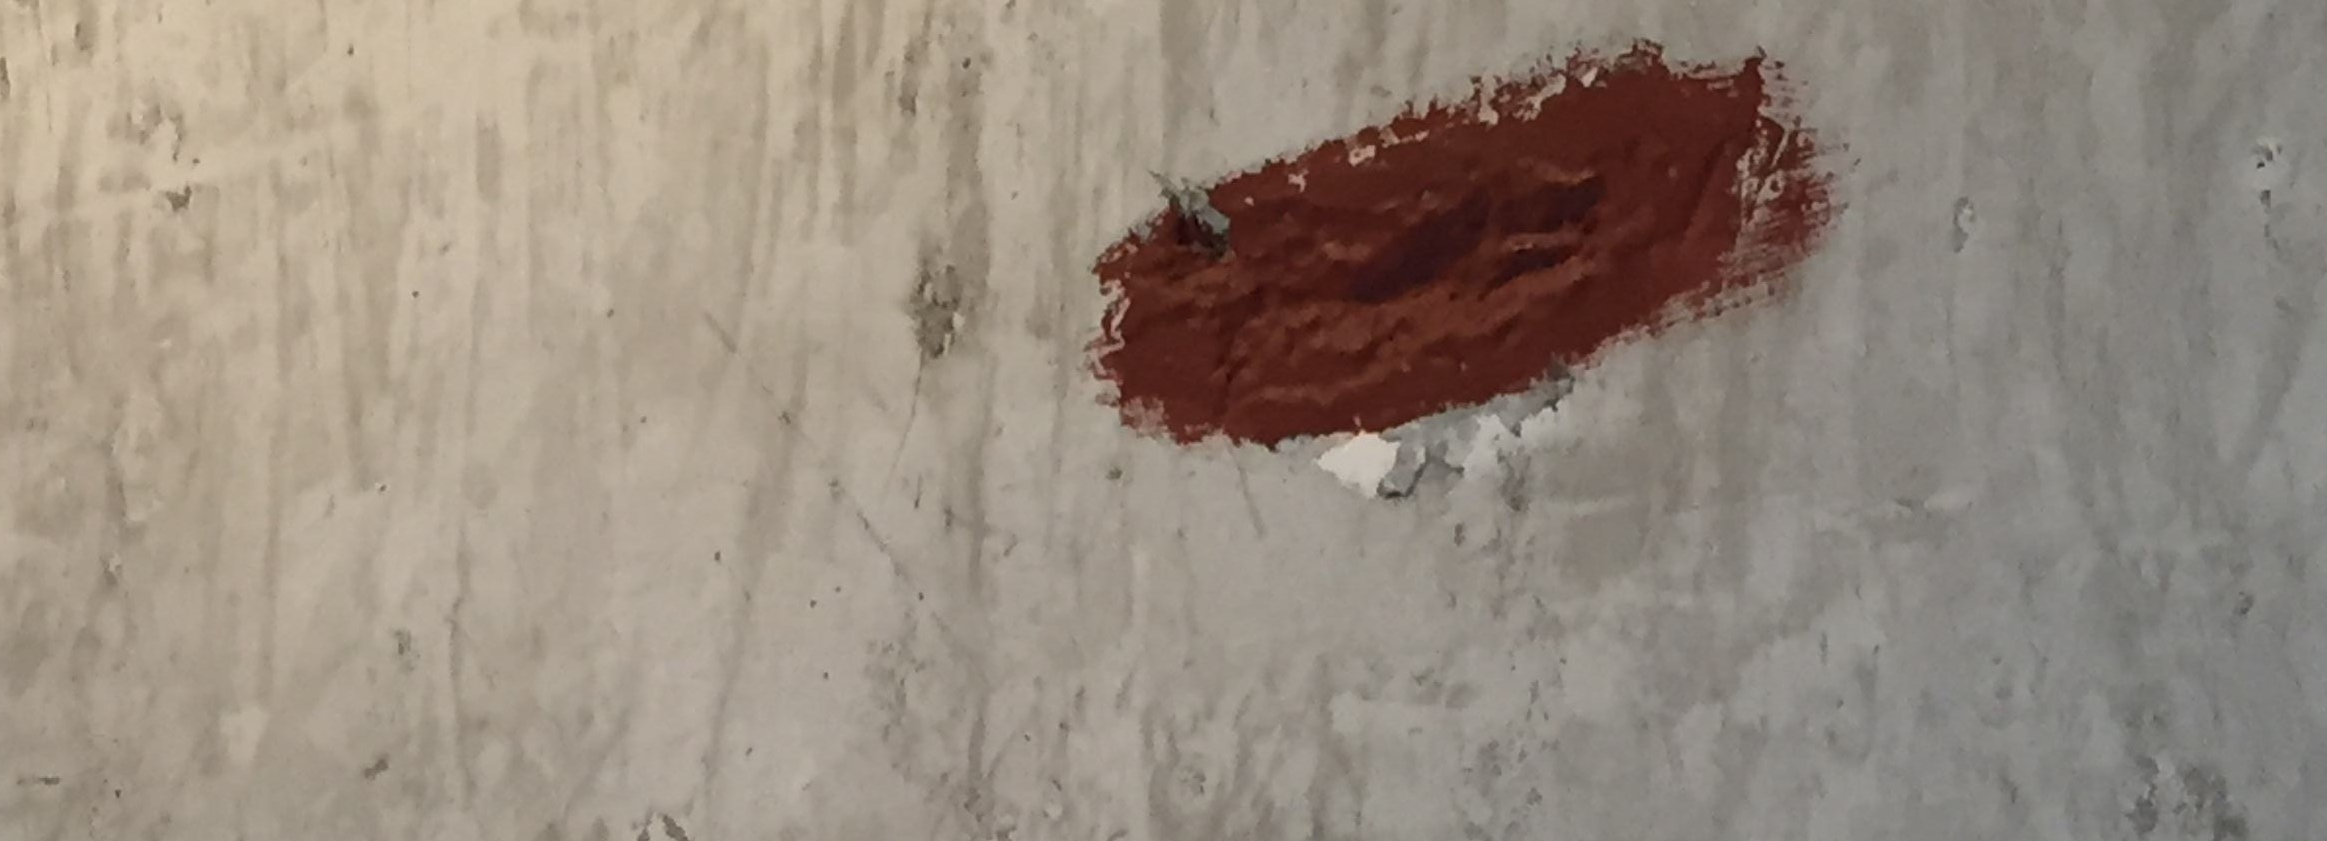Corrosion: (1080, 34, 1834, 455)
